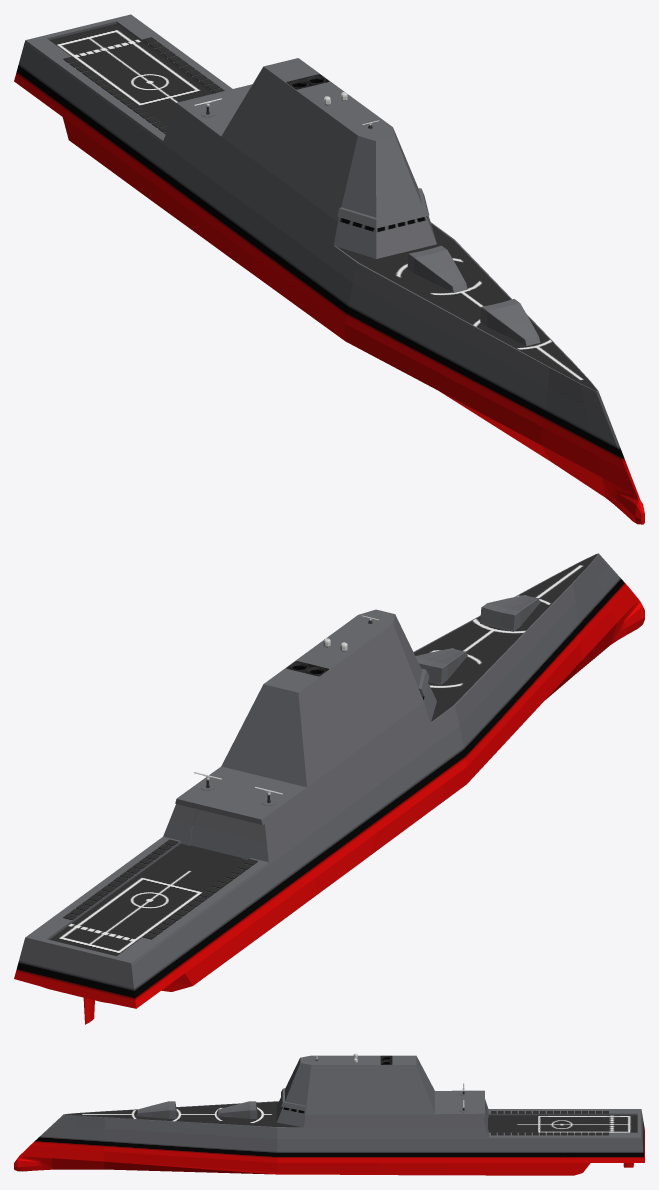
3 renders of one model, top to bottom at view 1: azimuth 30°, elevation 25°; view 2: azimuth 150°, elevation 25°; view 3: azimuth 270°, elevation 25°, orthographic. The views are drawn at different scales.
Visible parts, largest first — view 1: Cube.036, Cube.037, Cube.043; view 2: Cube.036, Cube.037, Cube.050, Cube.049, Cube.043; view 3: Cube.036, Cube.043, Cube.037.
Boxes of the visible parts, x1=… form: Cube.036: x1=14, y1=14, x2=644, y2=524; Cube.037: x1=480, y1=299, x2=529, y2=334; Cube.043: x1=407, y1=245, x2=457, y2=281; Cube.036: x1=14, y1=553, x2=644, y2=1024; Cube.037: x1=480, y1=598, x2=530, y2=629; Cube.050: x1=190, y1=809, x2=220, y2=851; Cube.049: x1=216, y1=815, x2=244, y2=857; Cube.043: x1=415, y1=651, x2=457, y2=683; Cube.036: x1=14, y1=1053, x2=644, y2=1175; Cube.043: x1=232, y1=1101, x2=257, y2=1117; Cube.037: x1=151, y1=1101, x2=176, y2=1117.
Size of the model in its own units: 2268 by 3611 by 17971.
